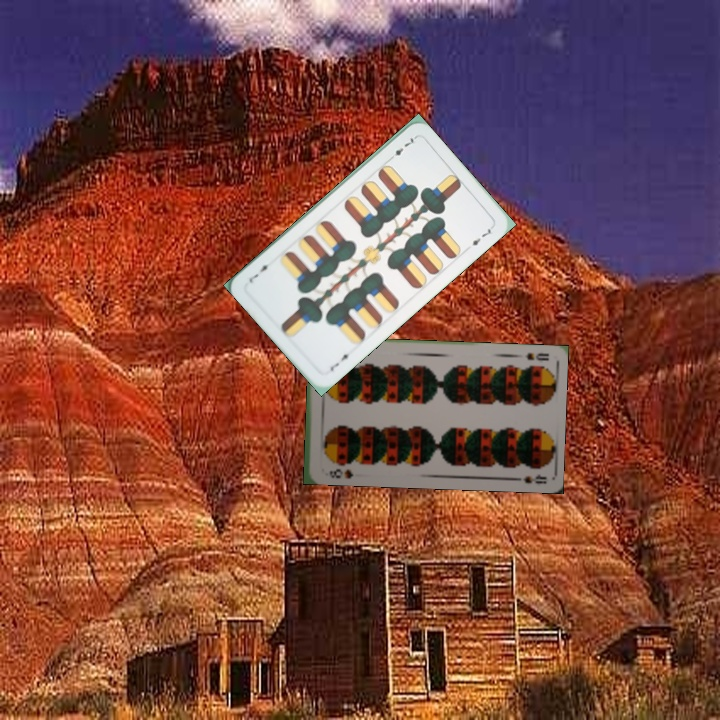E7: (385, 133, 418, 163), (326, 348, 356, 374)
S8: (325, 465, 355, 481), (522, 349, 552, 363)
